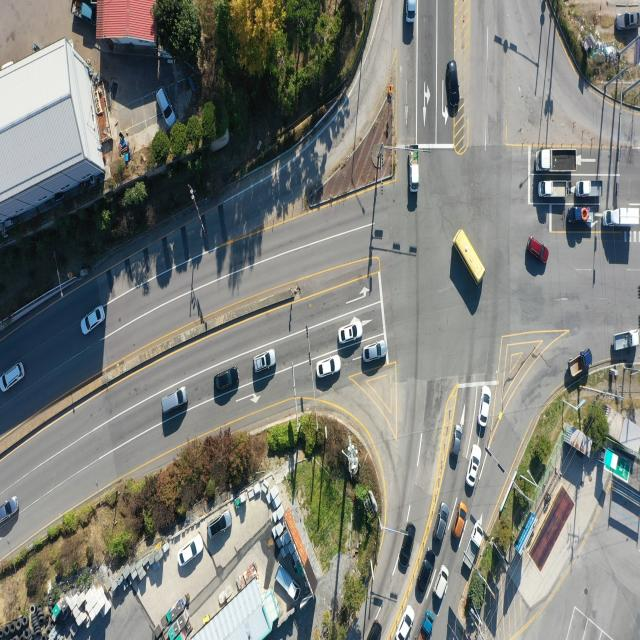car: (179, 536, 204, 570), (398, 523, 415, 572), (164, 388, 191, 418), (158, 85, 176, 127), (0, 361, 24, 392), (82, 306, 106, 337), (417, 552, 435, 592), (445, 60, 458, 115), (338, 319, 364, 345), (398, 605, 416, 640), (212, 368, 238, 392), (209, 511, 232, 538), (448, 424, 462, 468), (316, 354, 341, 378), (254, 349, 278, 374), (466, 444, 480, 486), (437, 502, 451, 542), (454, 500, 468, 540), (0, 496, 19, 525), (363, 342, 388, 364), (527, 238, 548, 264), (436, 566, 451, 600), (480, 389, 492, 430), (616, 10, 640, 30), (367, 619, 383, 640)
medium_truck: (536, 151, 577, 172), (605, 206, 640, 228)
small_bus: (453, 227, 486, 284)
small_truck: (466, 524, 488, 572), (275, 564, 301, 602), (567, 348, 593, 381), (612, 326, 640, 354), (71, 0, 95, 27), (576, 178, 604, 198), (407, 143, 419, 189), (538, 180, 567, 198), (418, 610, 434, 640), (568, 207, 593, 224), (406, 0, 417, 24)
